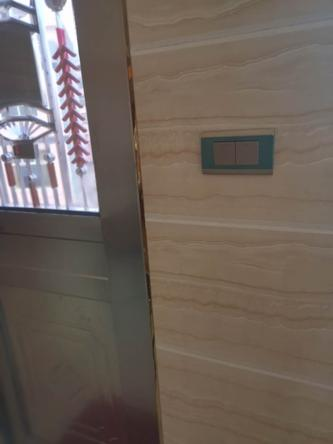switch: (209, 136, 238, 168), (234, 138, 263, 166)
